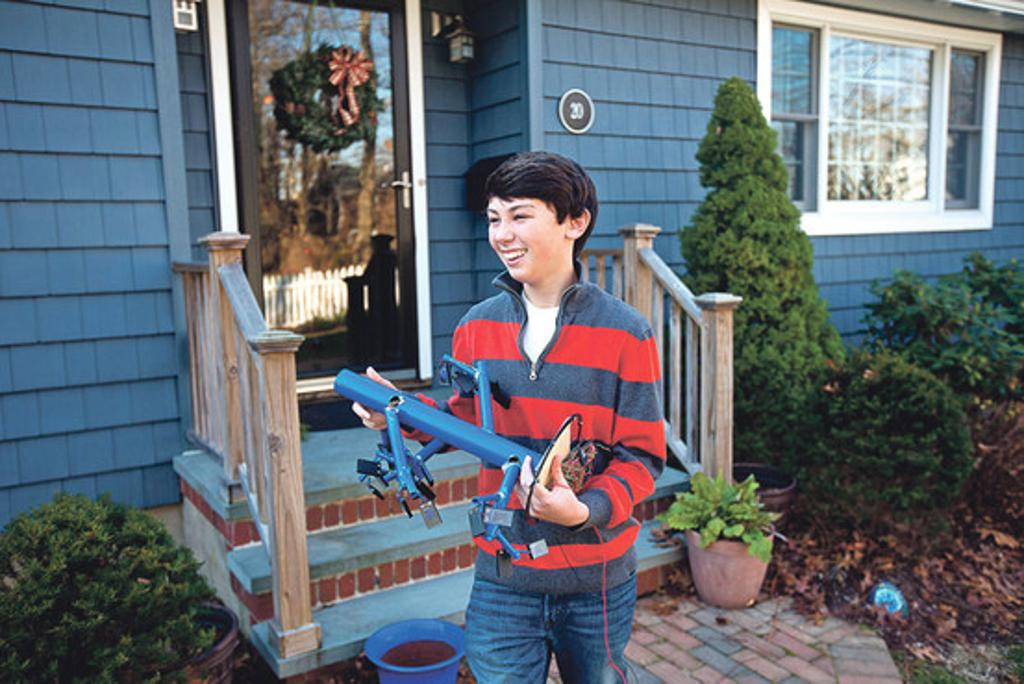face: (489, 191, 565, 281)
